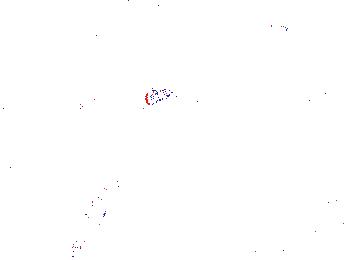X-ray fish: (66, 187, 89, 223)
glassfish: (66, 166, 131, 258), (63, 84, 175, 129)
red belly glassfish: (246, 16, 293, 34)
redtail glassfish: (126, 1, 180, 13)
